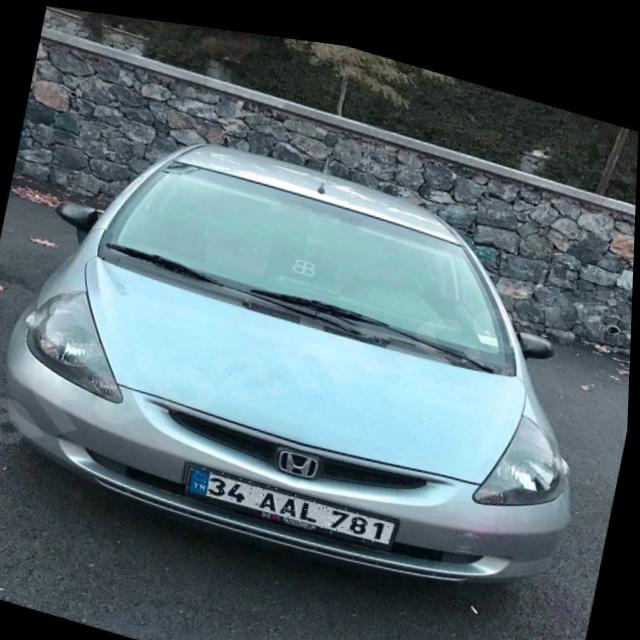license_plate: (188, 457, 401, 541)
